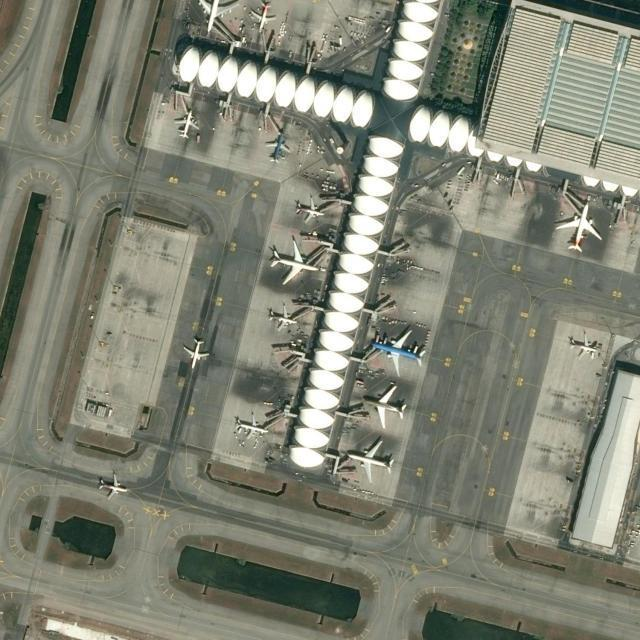Aircraft: (556, 199, 604, 254), (270, 236, 318, 286), (372, 327, 424, 373), (346, 434, 392, 482), (361, 384, 407, 426), (191, 0, 237, 33), (179, 336, 211, 370), (234, 411, 268, 441), (248, 2, 278, 34), (264, 130, 292, 164), (294, 195, 326, 223), (171, 110, 199, 141), (568, 331, 598, 359), (99, 472, 130, 499), (269, 305, 298, 331)
